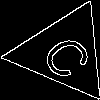C: (38, 27, 100, 83)
